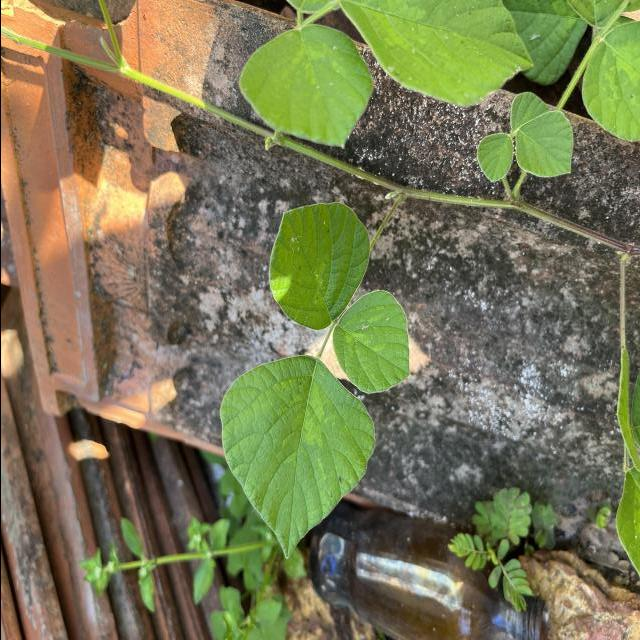Pseudarthria viscida: (218, 199, 412, 562)
